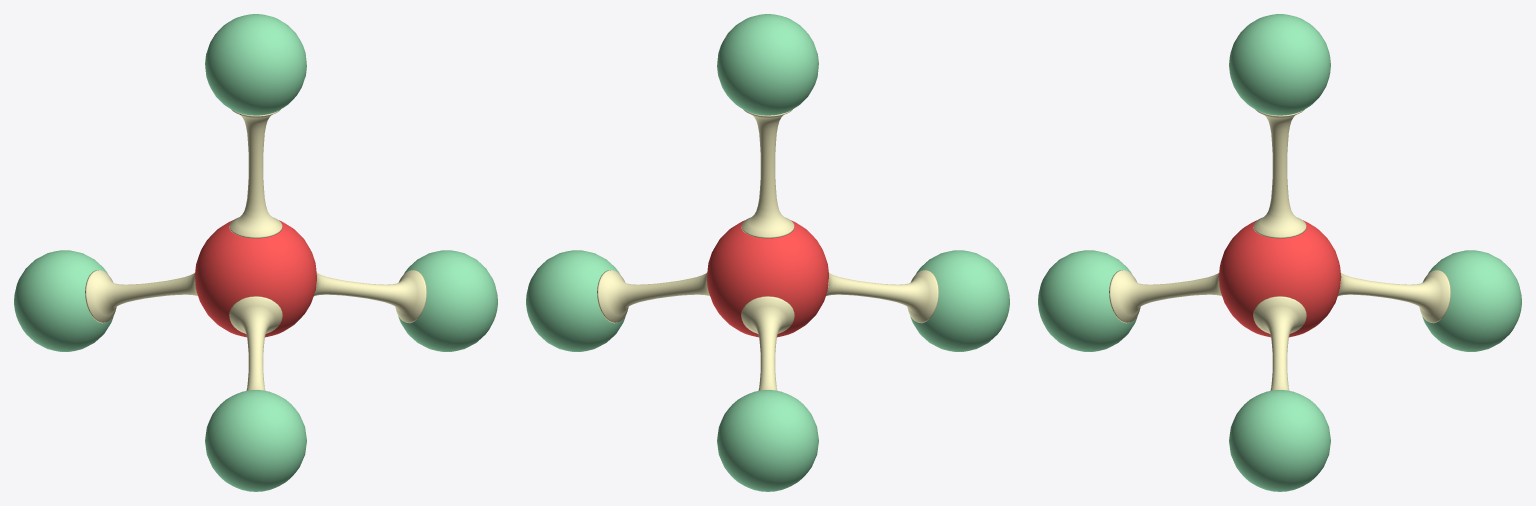
Rendered from methane.glb.
3 renders of one model, left to right at view 1: azimuth 30°, elevation 25°; view 2: azimuth 150°, elevation 25°; view 3: azimuth 270°, elevation 25°, orthographic.
Parts seen in each view (by area): view 1: methane; view 2: methane; view 3: methane.
Part boxes in pixels (bbox=[...]): methane: bbox=[14, 14, 497, 491]; methane: bbox=[526, 14, 1009, 491]; methane: bbox=[1038, 14, 1521, 491].
Bounding box in the file's own units: 0.5378 × 0.5148 × 0.6017.
